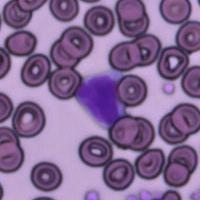M: (74, 70, 128, 129)
